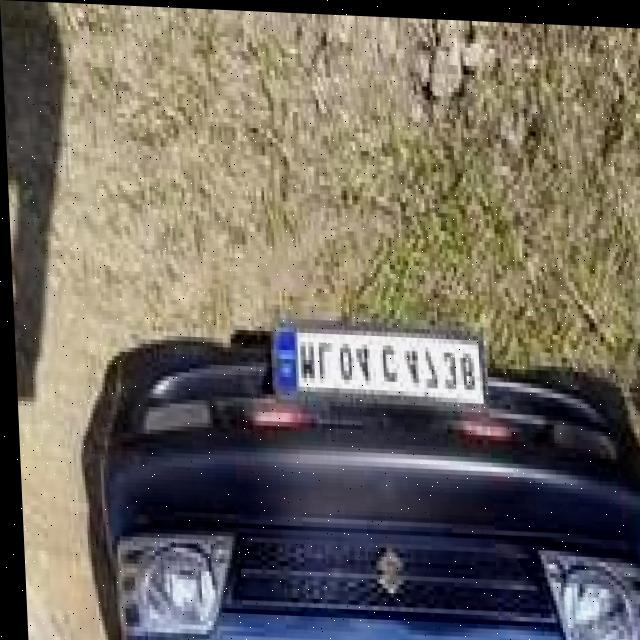plate: (268, 318, 486, 410)
